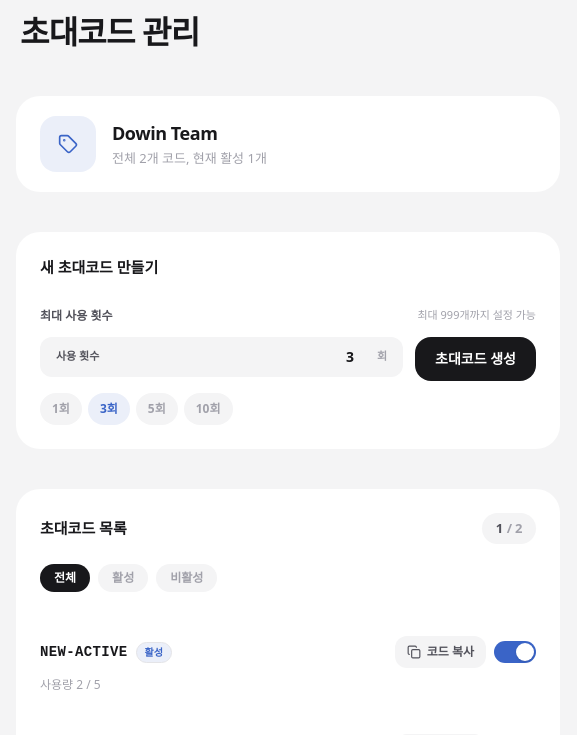
Test: ProfileInvitesPage › shows validation errors before creating an invite
The width and height of the screenshot is (577, 735).
Step 1. Type "1000" into the number field → point(238, 356), box x1=107 y1=347 x2=369 y2=366
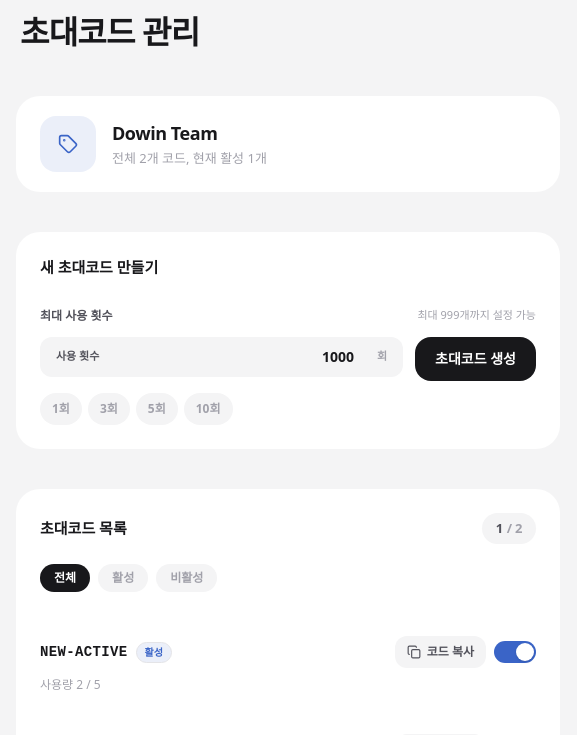
Step 2. Click the button "초대코드 생성" → point(476, 358), box x1=415 y1=336 x2=536 y2=380
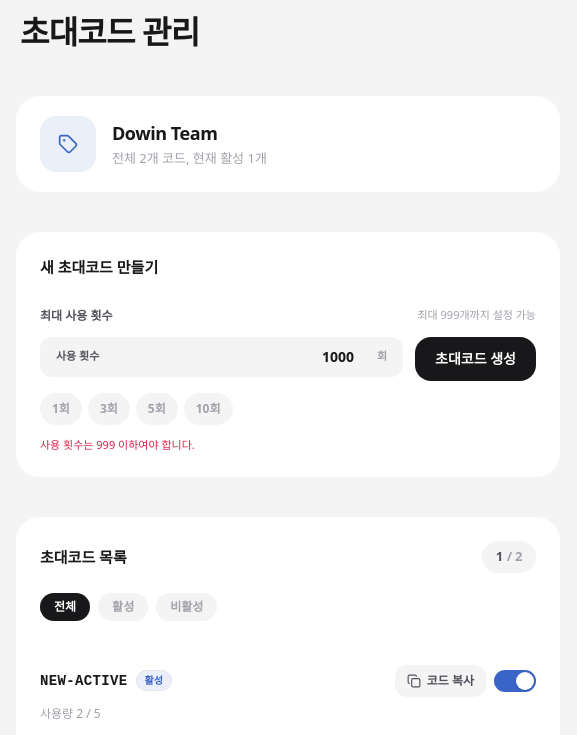
Now the text "사용 횟수는 999 이하여야 합니다." is shown, box x1=40 y1=436 x2=195 y2=452
